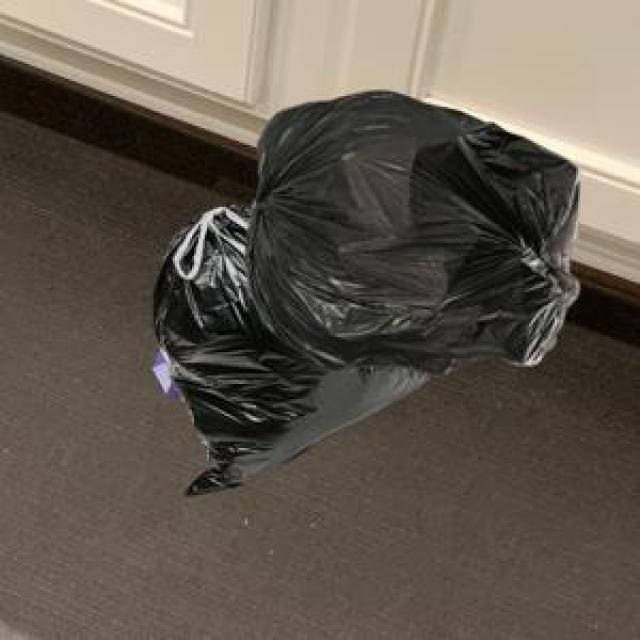miscellaneous trash: (243, 88, 576, 371), (149, 198, 425, 491)
paper: (149, 348, 176, 393)
